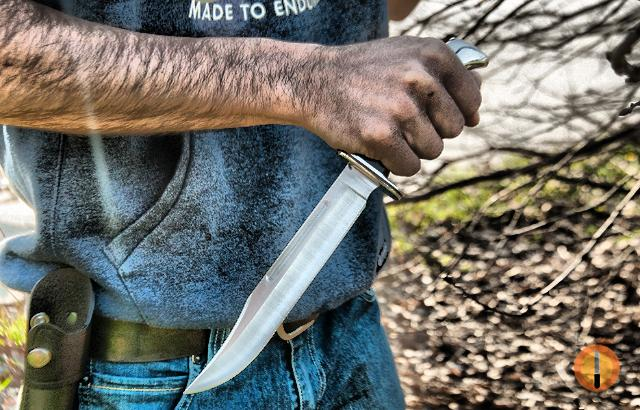knife: (175, 71, 487, 398)
